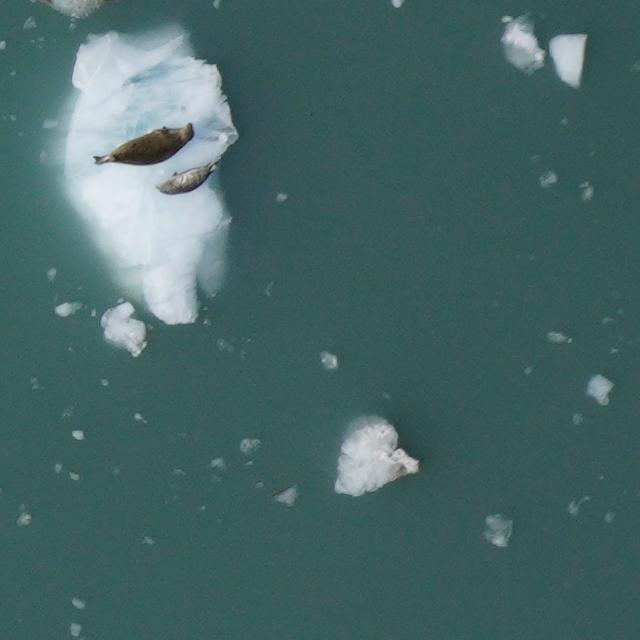seal: (89, 119, 200, 170), (153, 156, 223, 198)
